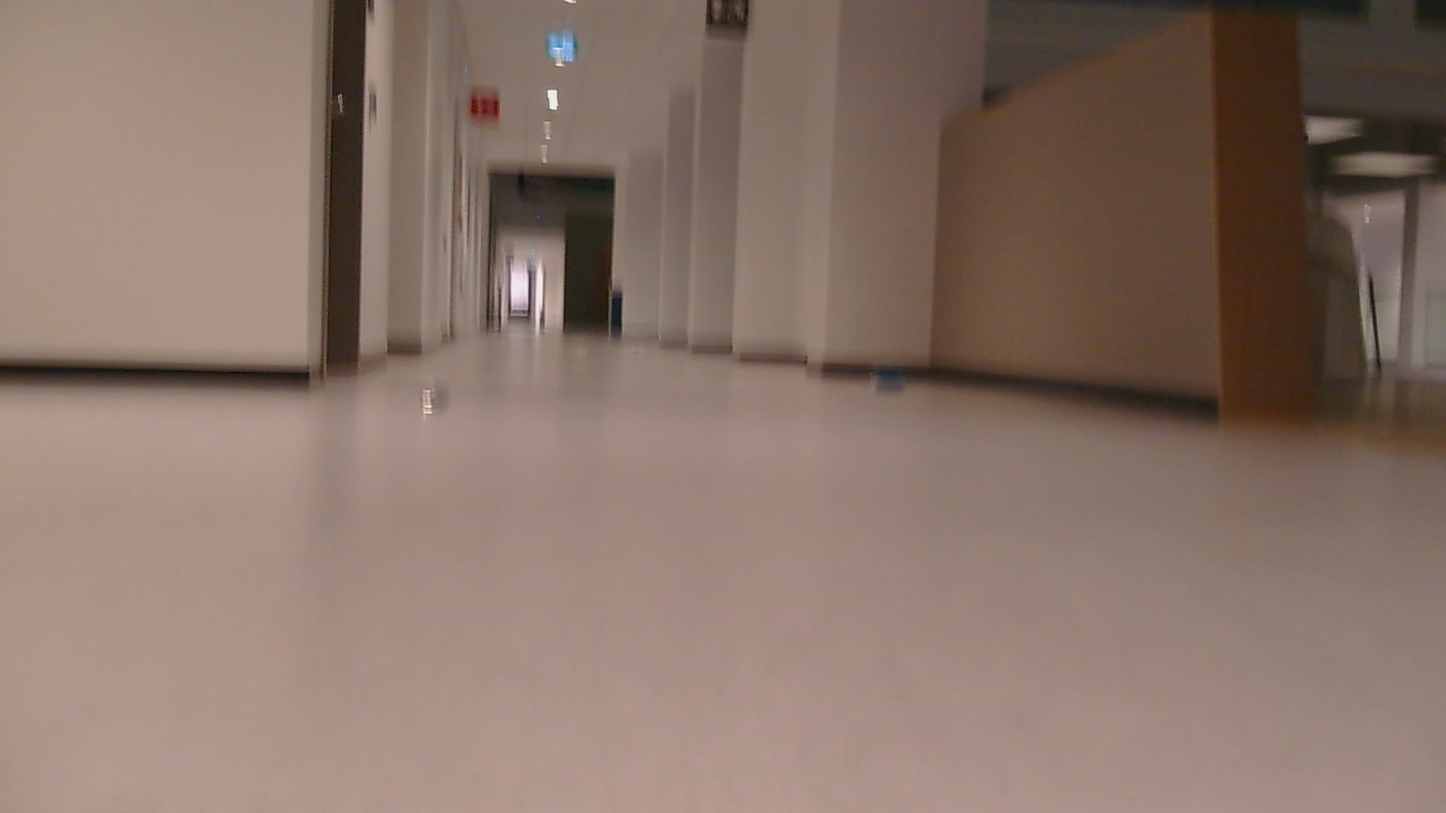carton: (396, 369, 469, 418), (869, 355, 927, 400)
